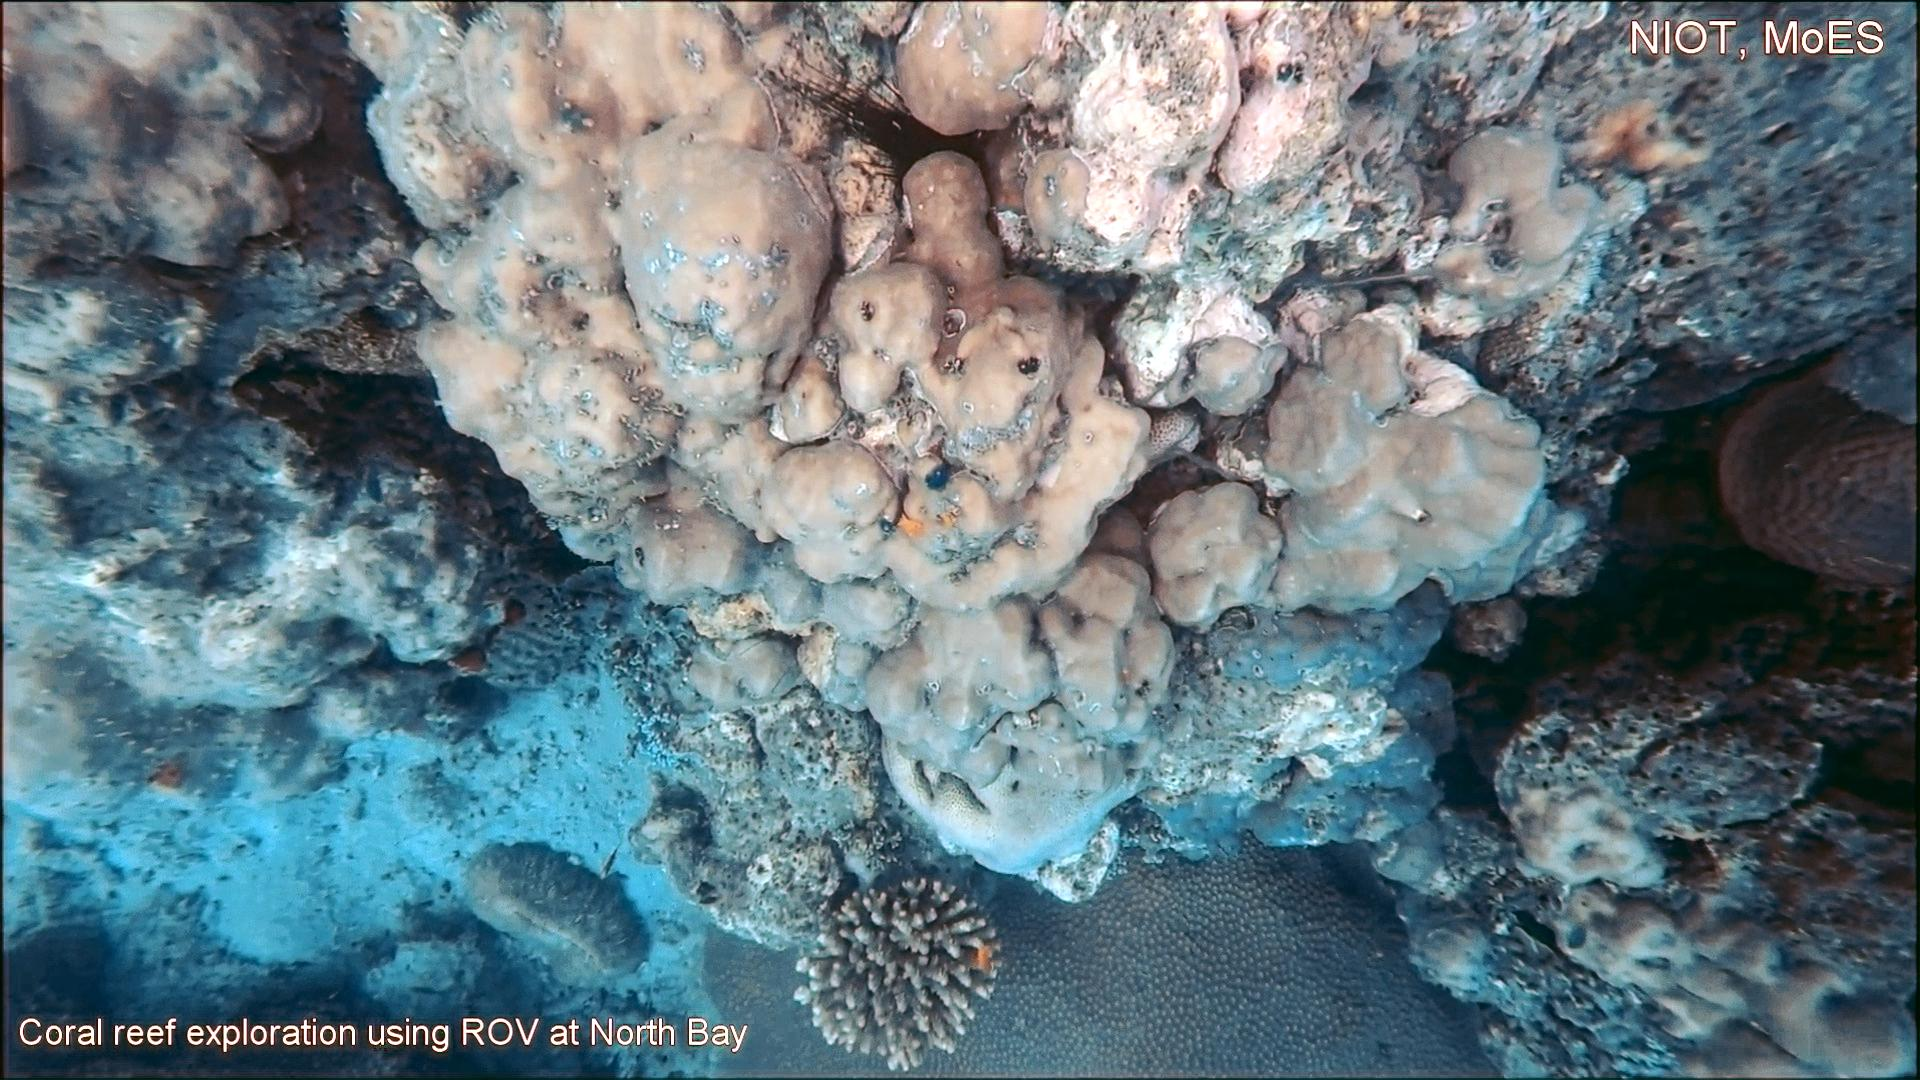Meandrina meandrites: (1710, 356, 1920, 596)
